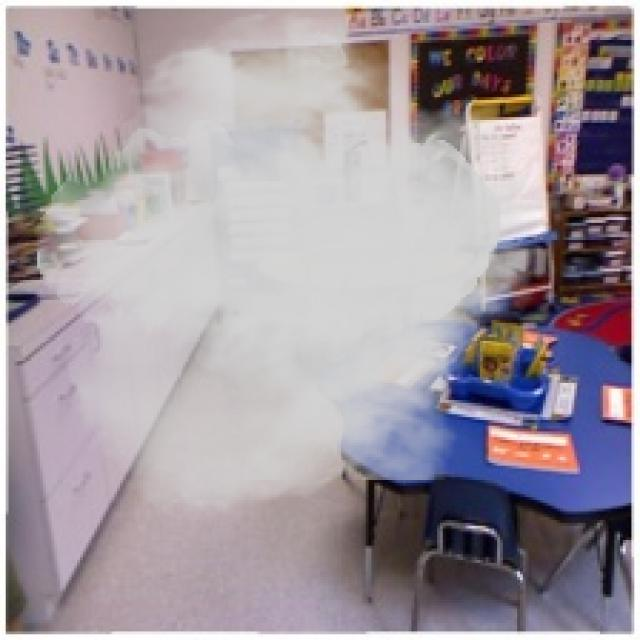smoke: (34, 6, 554, 526)
